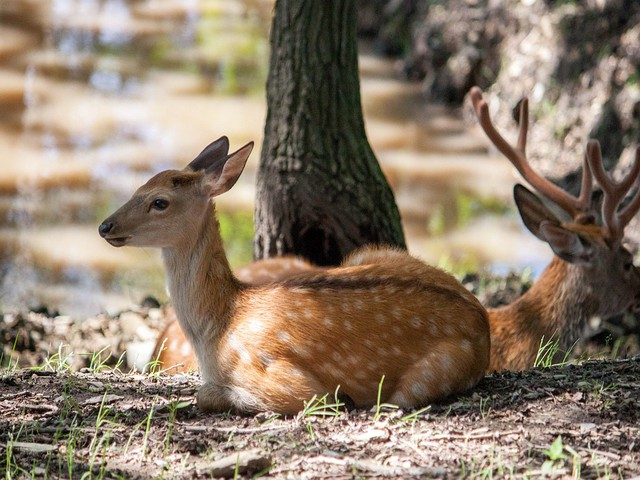deer: (88, 133, 500, 420), (516, 103, 640, 365)
